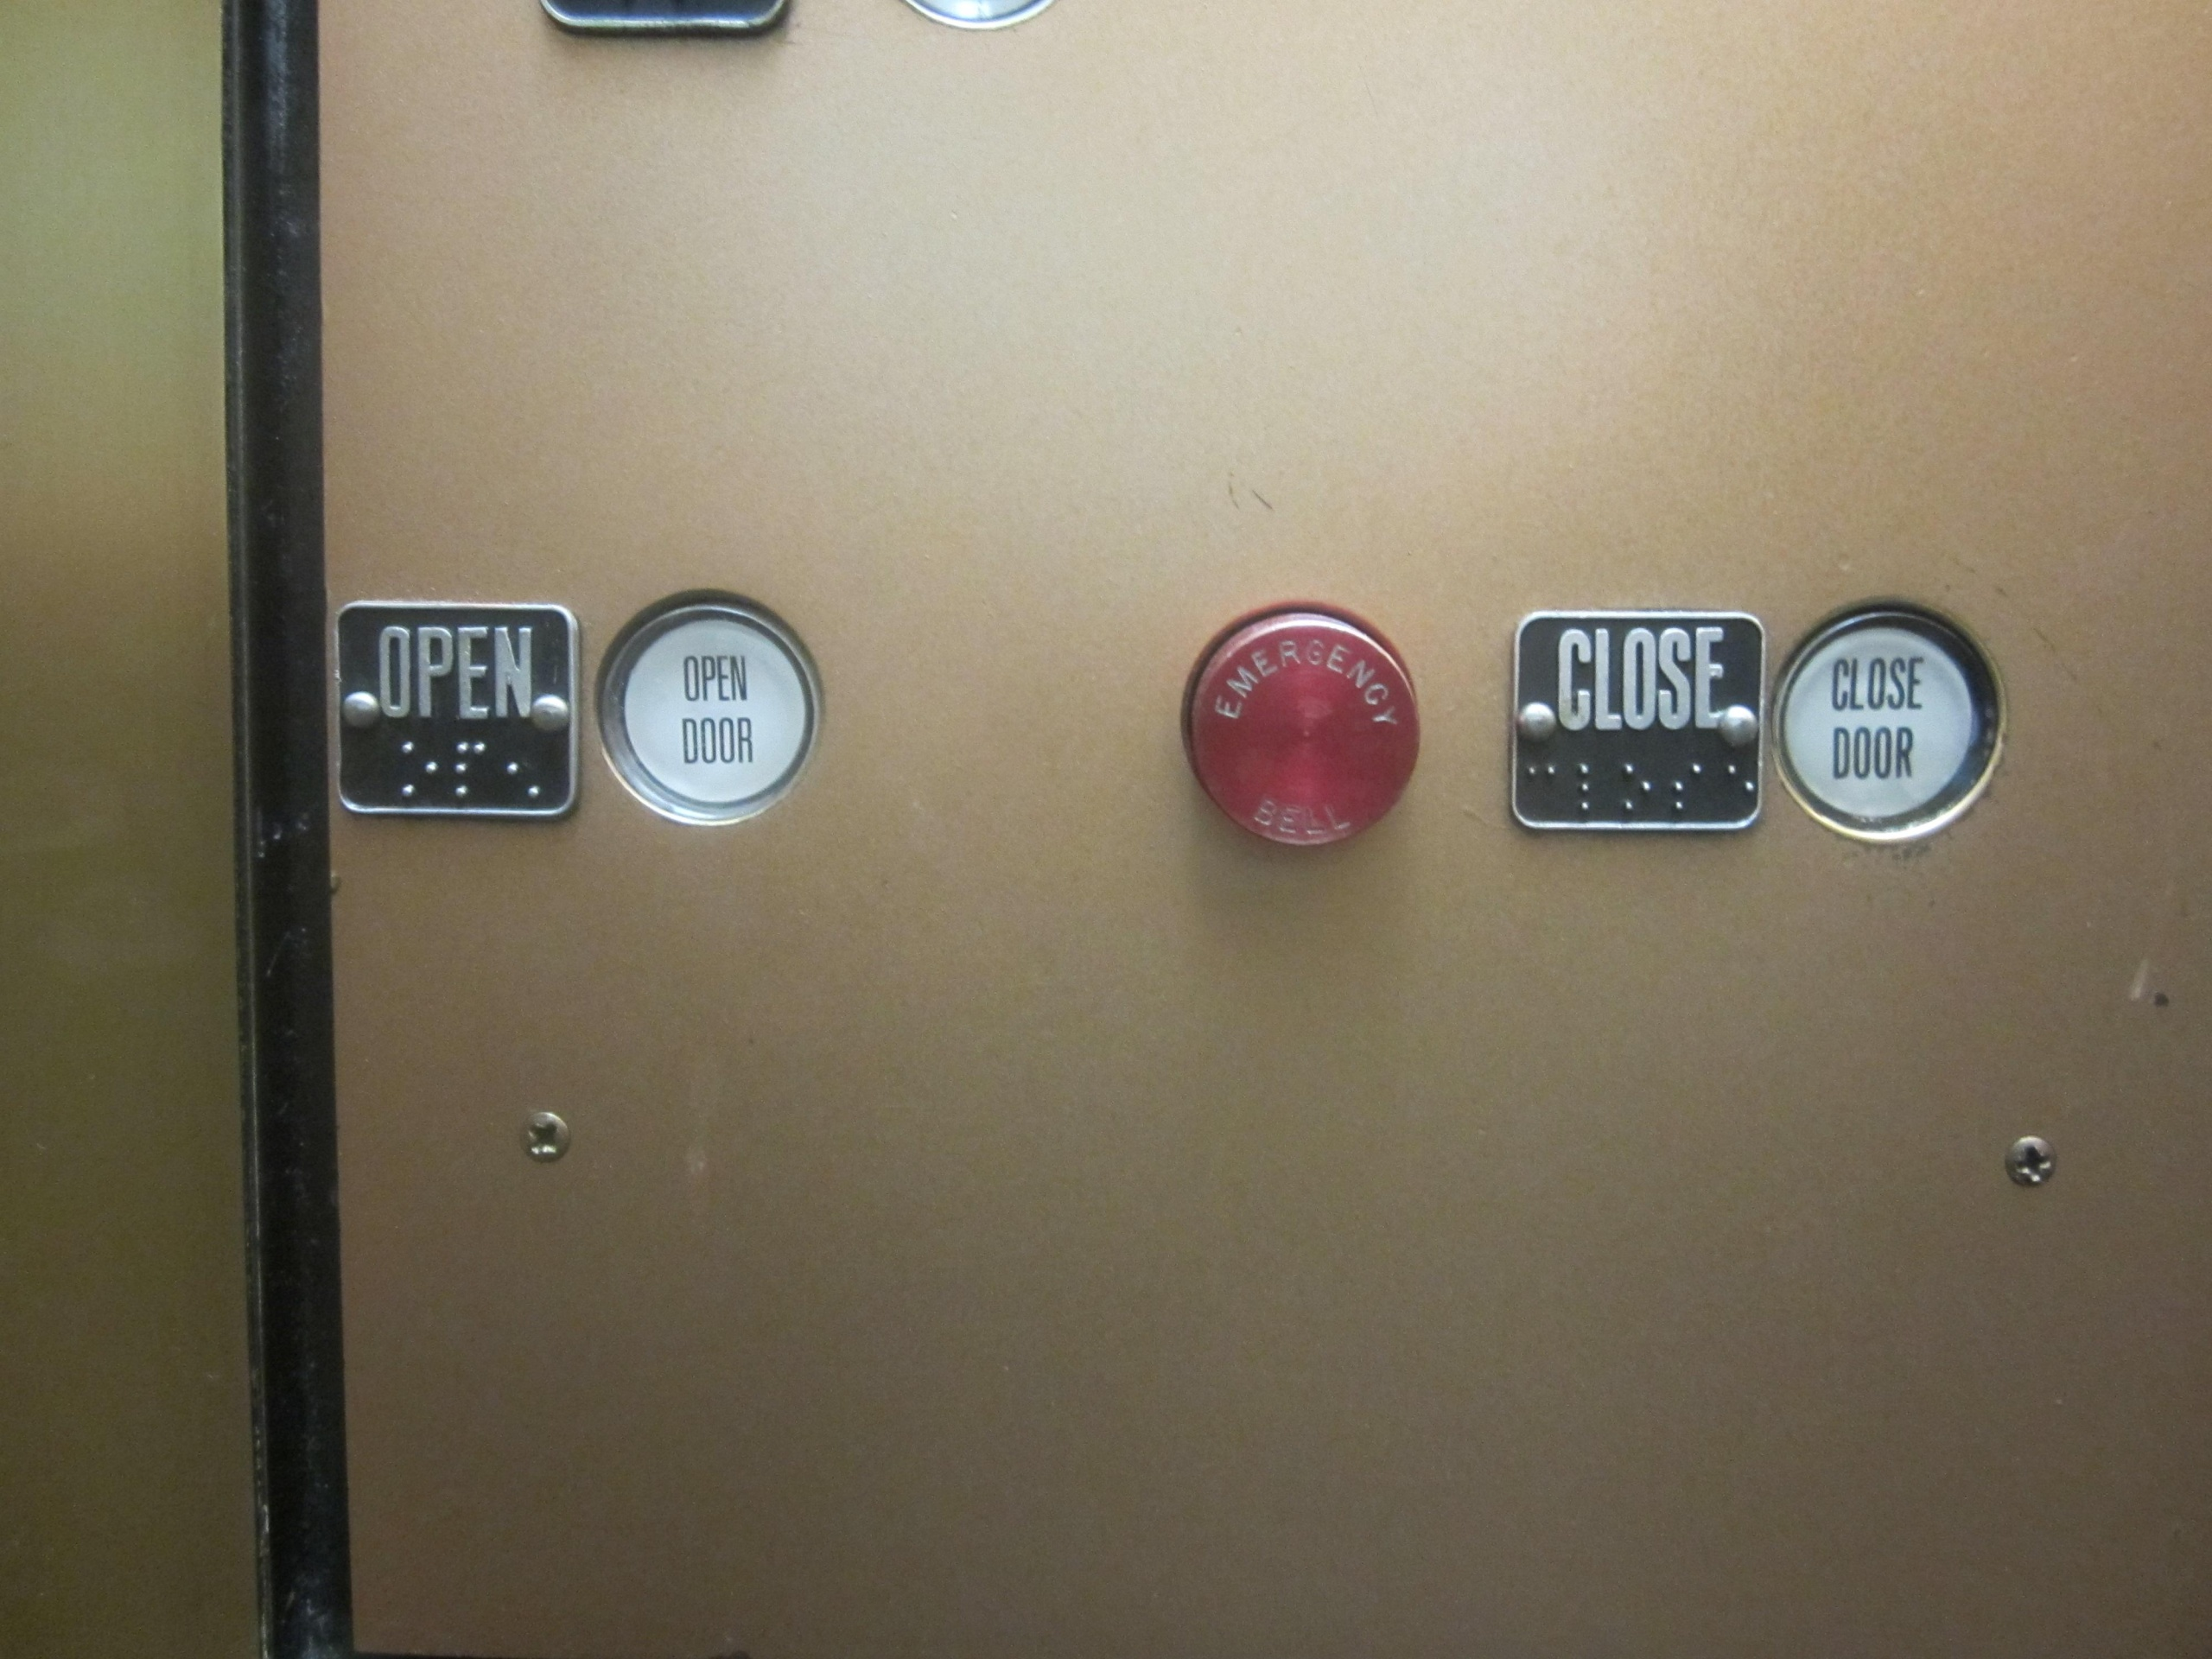text: (1174, 598, 1440, 857)
text_close: (1498, 591, 1771, 845)
text_close door: (1770, 589, 2017, 861)
text_open: (331, 589, 587, 833)
text_open door: (585, 579, 836, 833)
